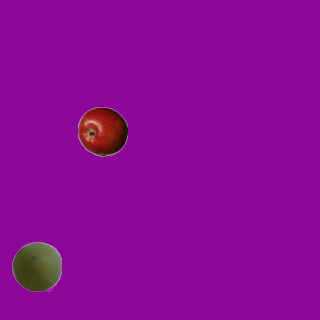Apple Braeburn: (77, 106, 127, 156)
Grape White 4: (11, 241, 61, 291)
